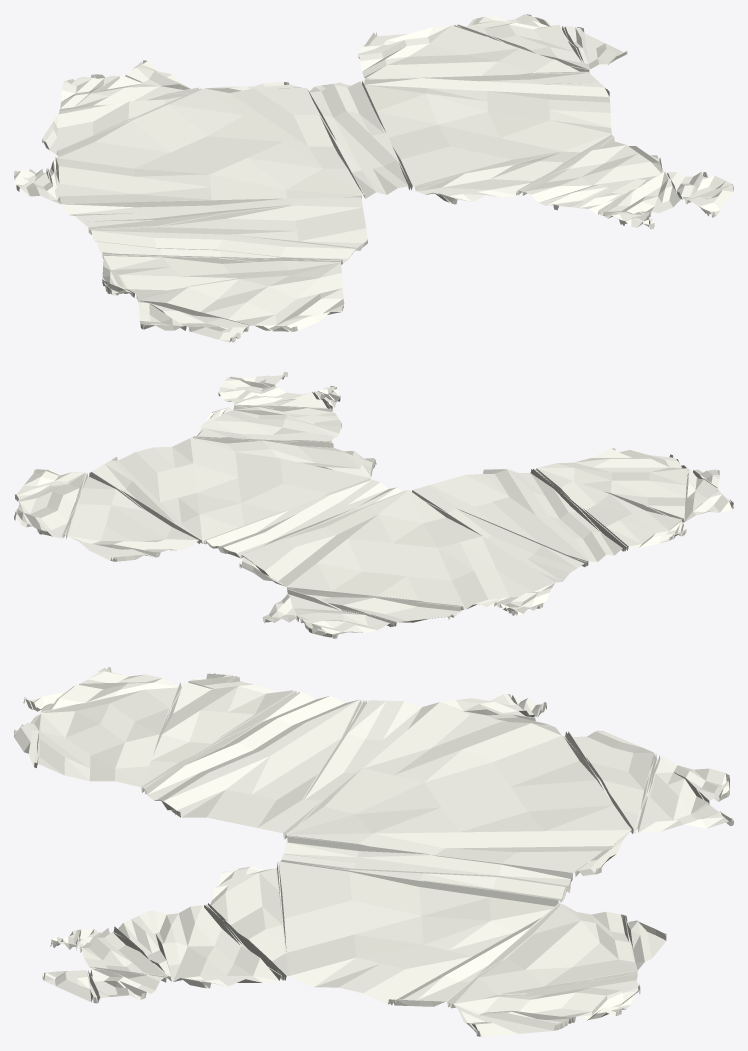
Rendered from Punjab2-transformed.glb.
3 views of the same model, one above another, from view 1: azimuth 30°, elevation 25°; view 2: azimuth 150°, elevation 25°; view 3: azimuth 270°, elevation 25° (orthographic). The views are drawn at different scales.
Parts seen in each view (by area): view 1: Map_rivers.001; view 2: Map_rivers.001; view 3: Map_rivers.001.
Boxes of the visible parts, x1=… form: Map_rivers.001: x1=14, y1=14, x2=733, y2=342; Map_rivers.001: x1=14, y1=371, x2=733, y2=638; Map_rivers.001: x1=14, y1=667, x2=733, y2=1036.
Bounding box in the file's own units: 1.15 × 0.00816 × 0.9623.
1 material, 1 textured.
